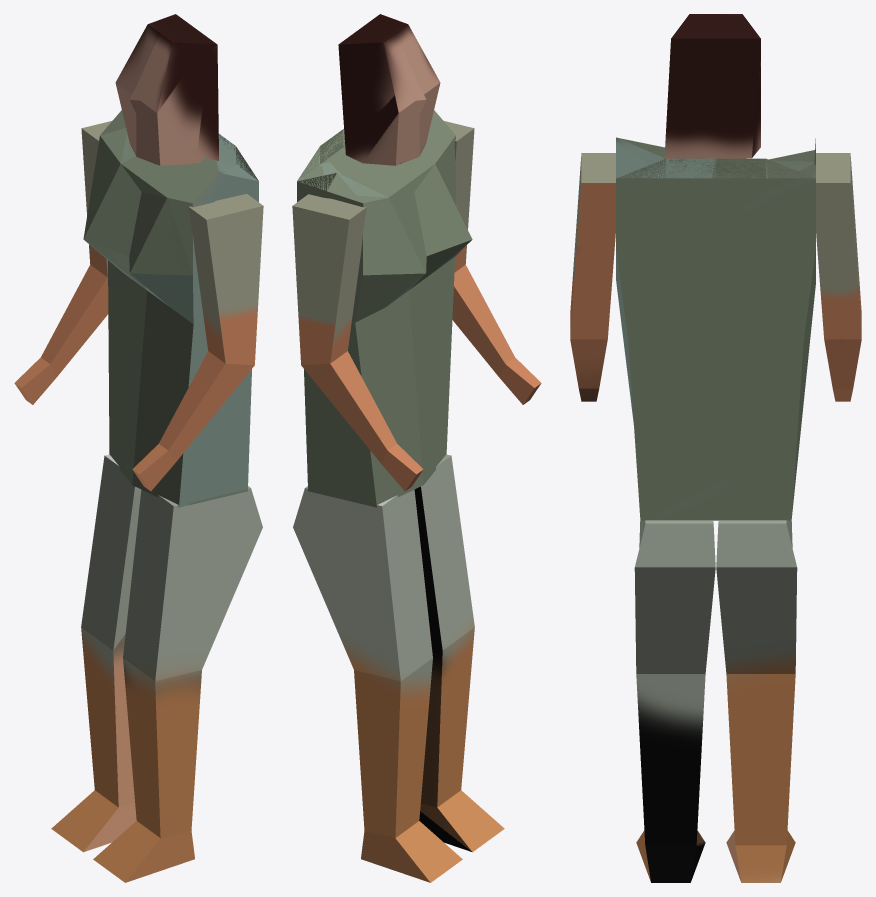
Rendered from Seph.fbx.
3 renders of one model, left to right at view 1: azimuth 30°, elevation 25°; view 2: azimuth 150°, elevation 25°; view 3: azimuth 270°, elevation 25°, orthographic. The views are drawn at different scales.
Visible parts, largest first — view 1: Body, L Leg, R Leg, L Arm, Head, R Arm; view 2: Body, R Leg, L Leg, R Arm, Head, L Arm; view 3: Body, L Leg, R Leg, Head, L Arm, R Arm.
Boxes of the visible parts, x1,y1,x2,y2 form: Body: (83,110,258,507); L Leg: (93,486,262,882); R Leg: (51,454,141,852); L Arm: (132,194,263,491); Head: (115,14,218,165); R Arm: (14,121,111,404); Body: (297,110,472,507); R Leg: (293,486,462,882); L Leg: (414,454,504,852); R Arm: (292,194,423,491); Head: (338,14,440,165); L Arm: (444,121,541,404); Body: (616,137,815,520); L Leg: (634,520,715,882); R Leg: (716,520,797,882); Head: (664,14,760,158); L Arm: (570,153,615,401); R Arm: (816,153,861,401).
Size of the model in its own units: 185 by 957 by 292.
